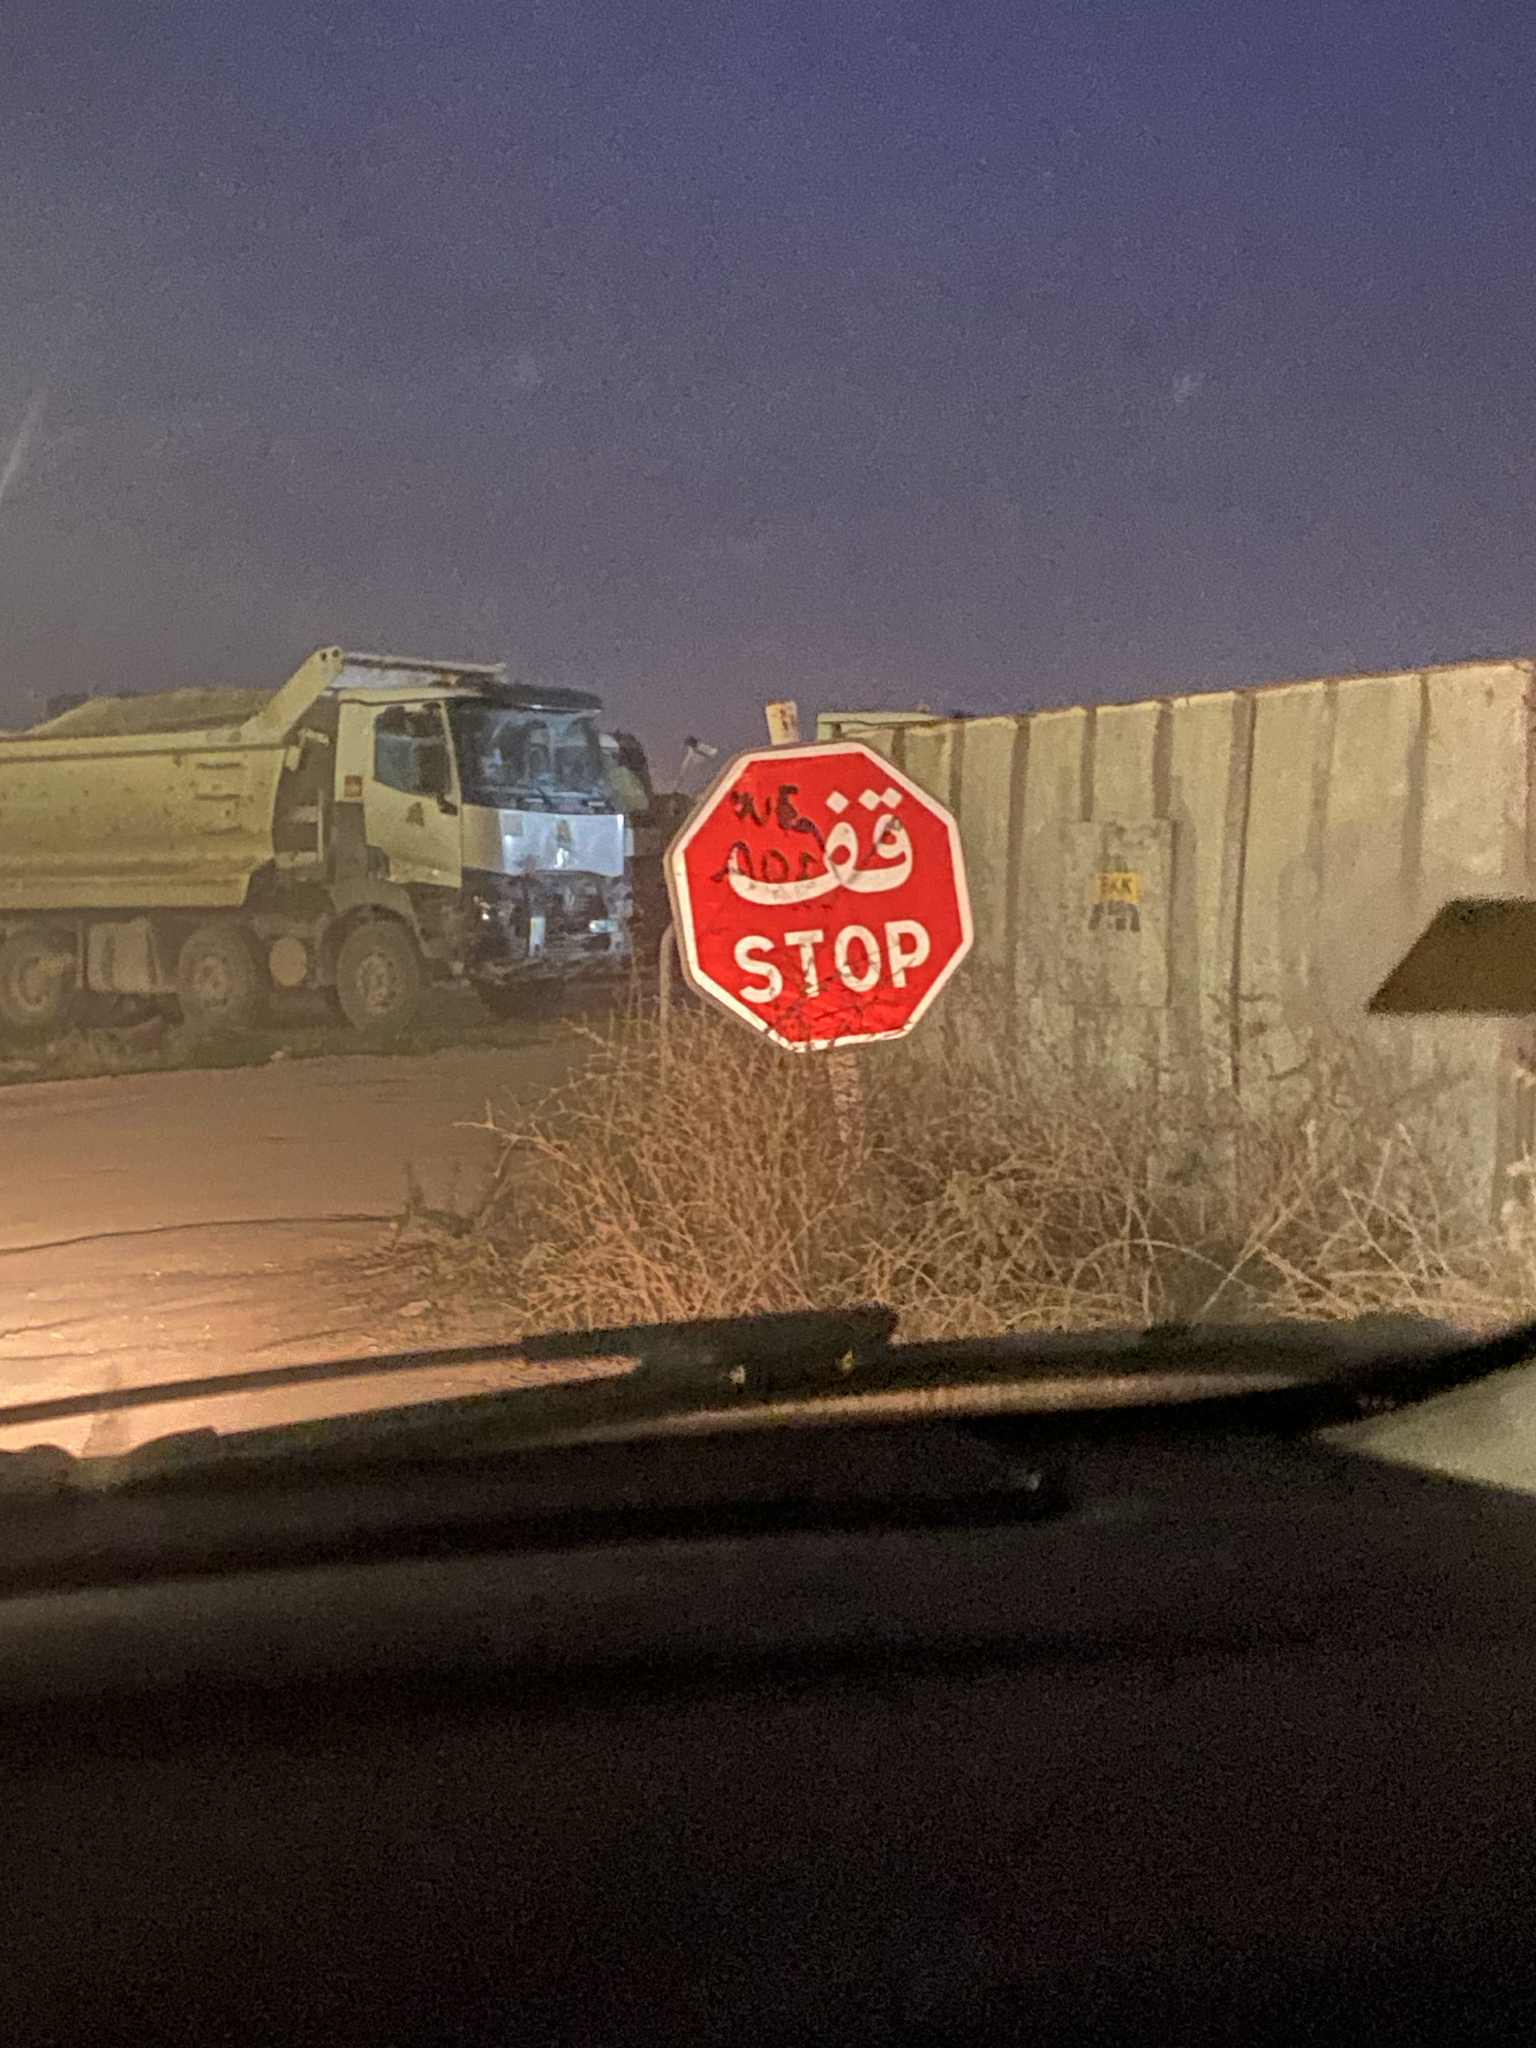Stop: (663, 737, 976, 1056)
